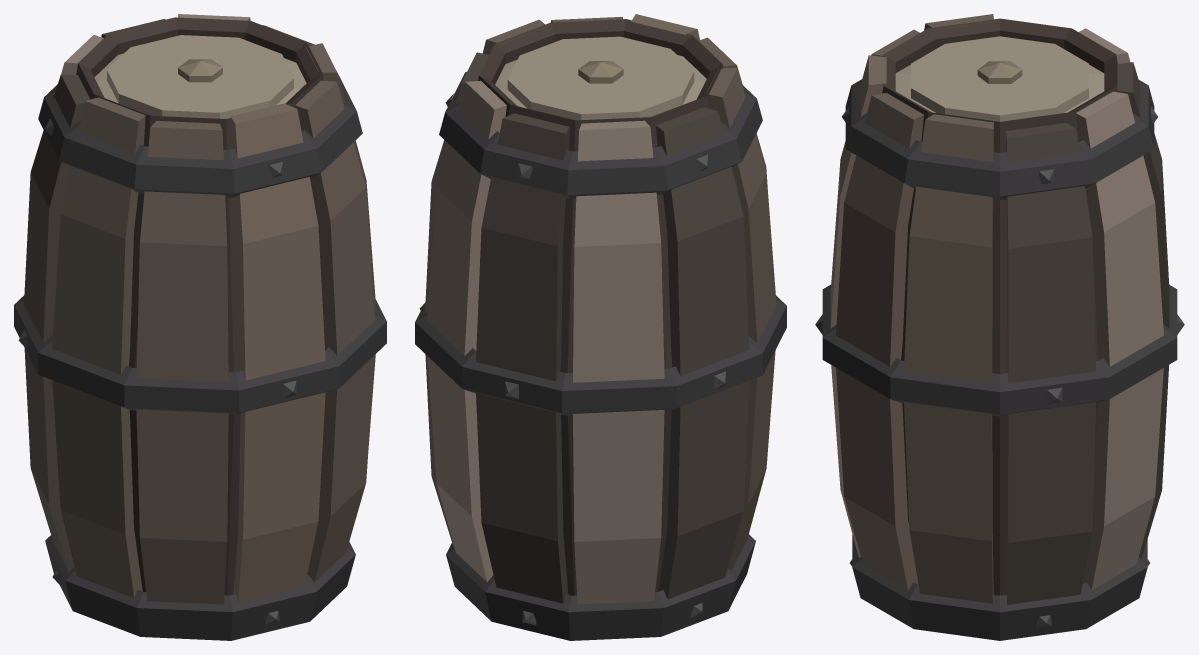
Rendered from oak-barrel-b65311.glb.
The picture shows the model from 3 angles, left to right: view 1: azimuth 30°, elevation 25°; view 2: azimuth 150°, elevation 25°; view 3: azimuth 270°, elevation 25°; orthographic projection.
Size of the model in its own units: 0.5973 by 0.913 by 0.5926.
